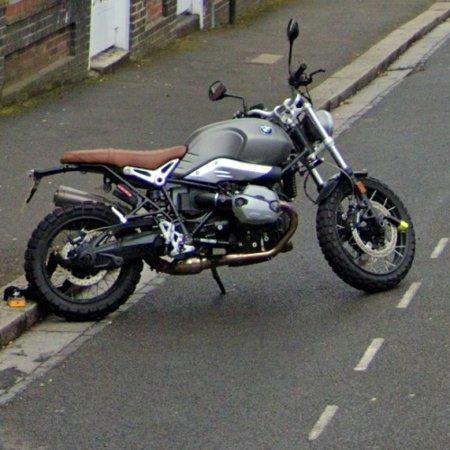motorcycles: (25, 20, 416, 320)
